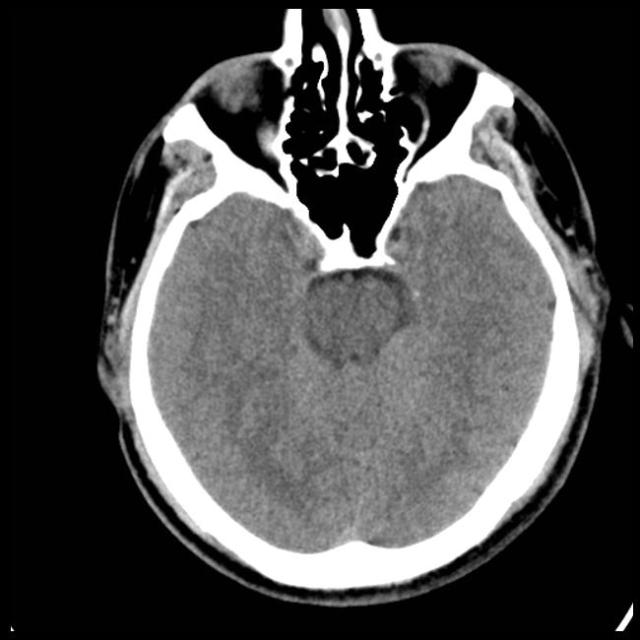lesion: (92, 7, 614, 603)
